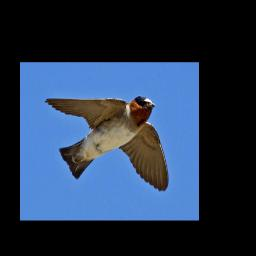Swallow: (43, 96, 170, 193)
